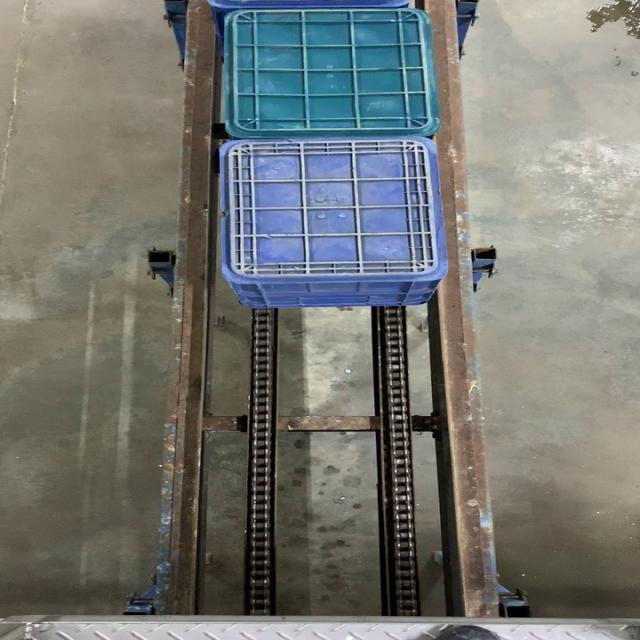Box: (216, 137, 447, 281), (221, 7, 443, 136)
